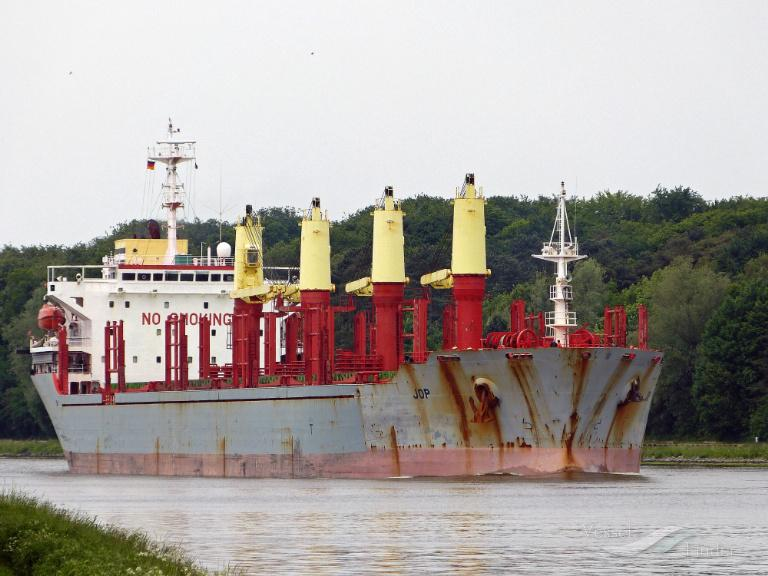OCR: (410, 378, 438, 409)
